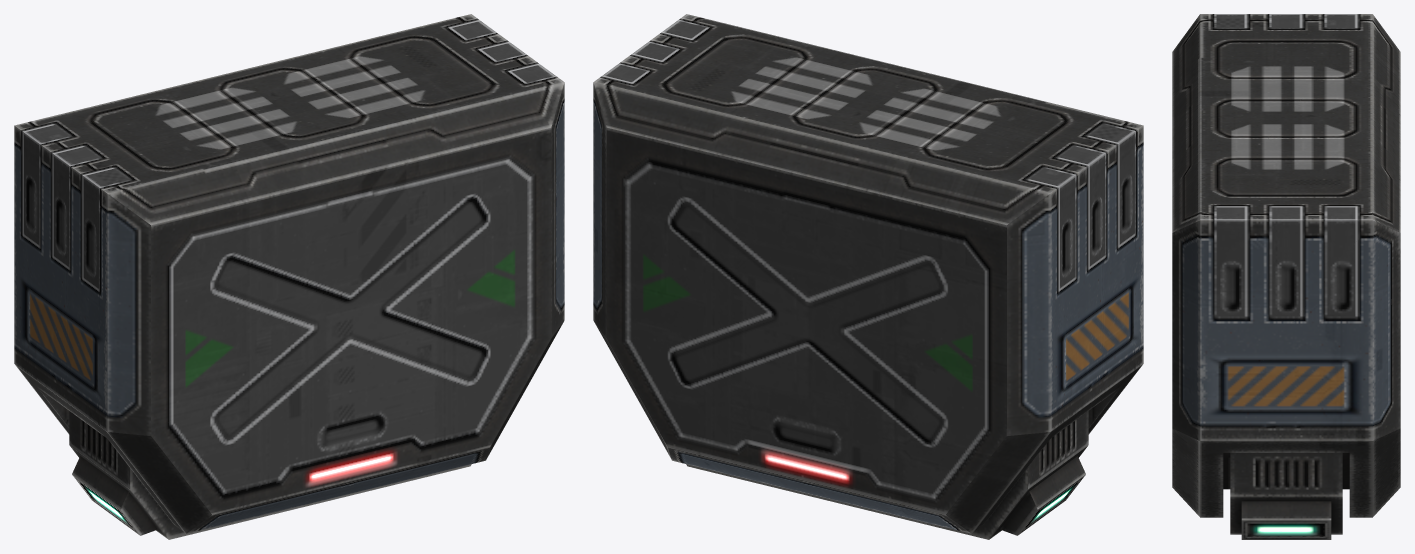
The model's file is ScifiSpaceshipSupportModule.fbx.
3 views of the same model, side by side, from view 1: azimuth 30°, elevation 25°; view 2: azimuth 150°, elevation 25°; view 3: azimuth 270°, elevation 25° (orthographic). The views are drawn at different scales.
Visible parts, largest first — view 1: ScifiSpaceshipSupportModule; view 2: ScifiSpaceshipSupportModule; view 3: ScifiSpaceshipSupportModule.
Boxes of the visible parts, x1=… form: ScifiSpaceshipSupportModule: x1=14, y1=14, x2=564, y2=539; ScifiSpaceshipSupportModule: x1=593, y1=14, x2=1143, y2=539; ScifiSpaceshipSupportModule: x1=1172, y1=14, x2=1400, y2=539.
Bounding box in the file's own units: 5227 × 4122 × 2446.
